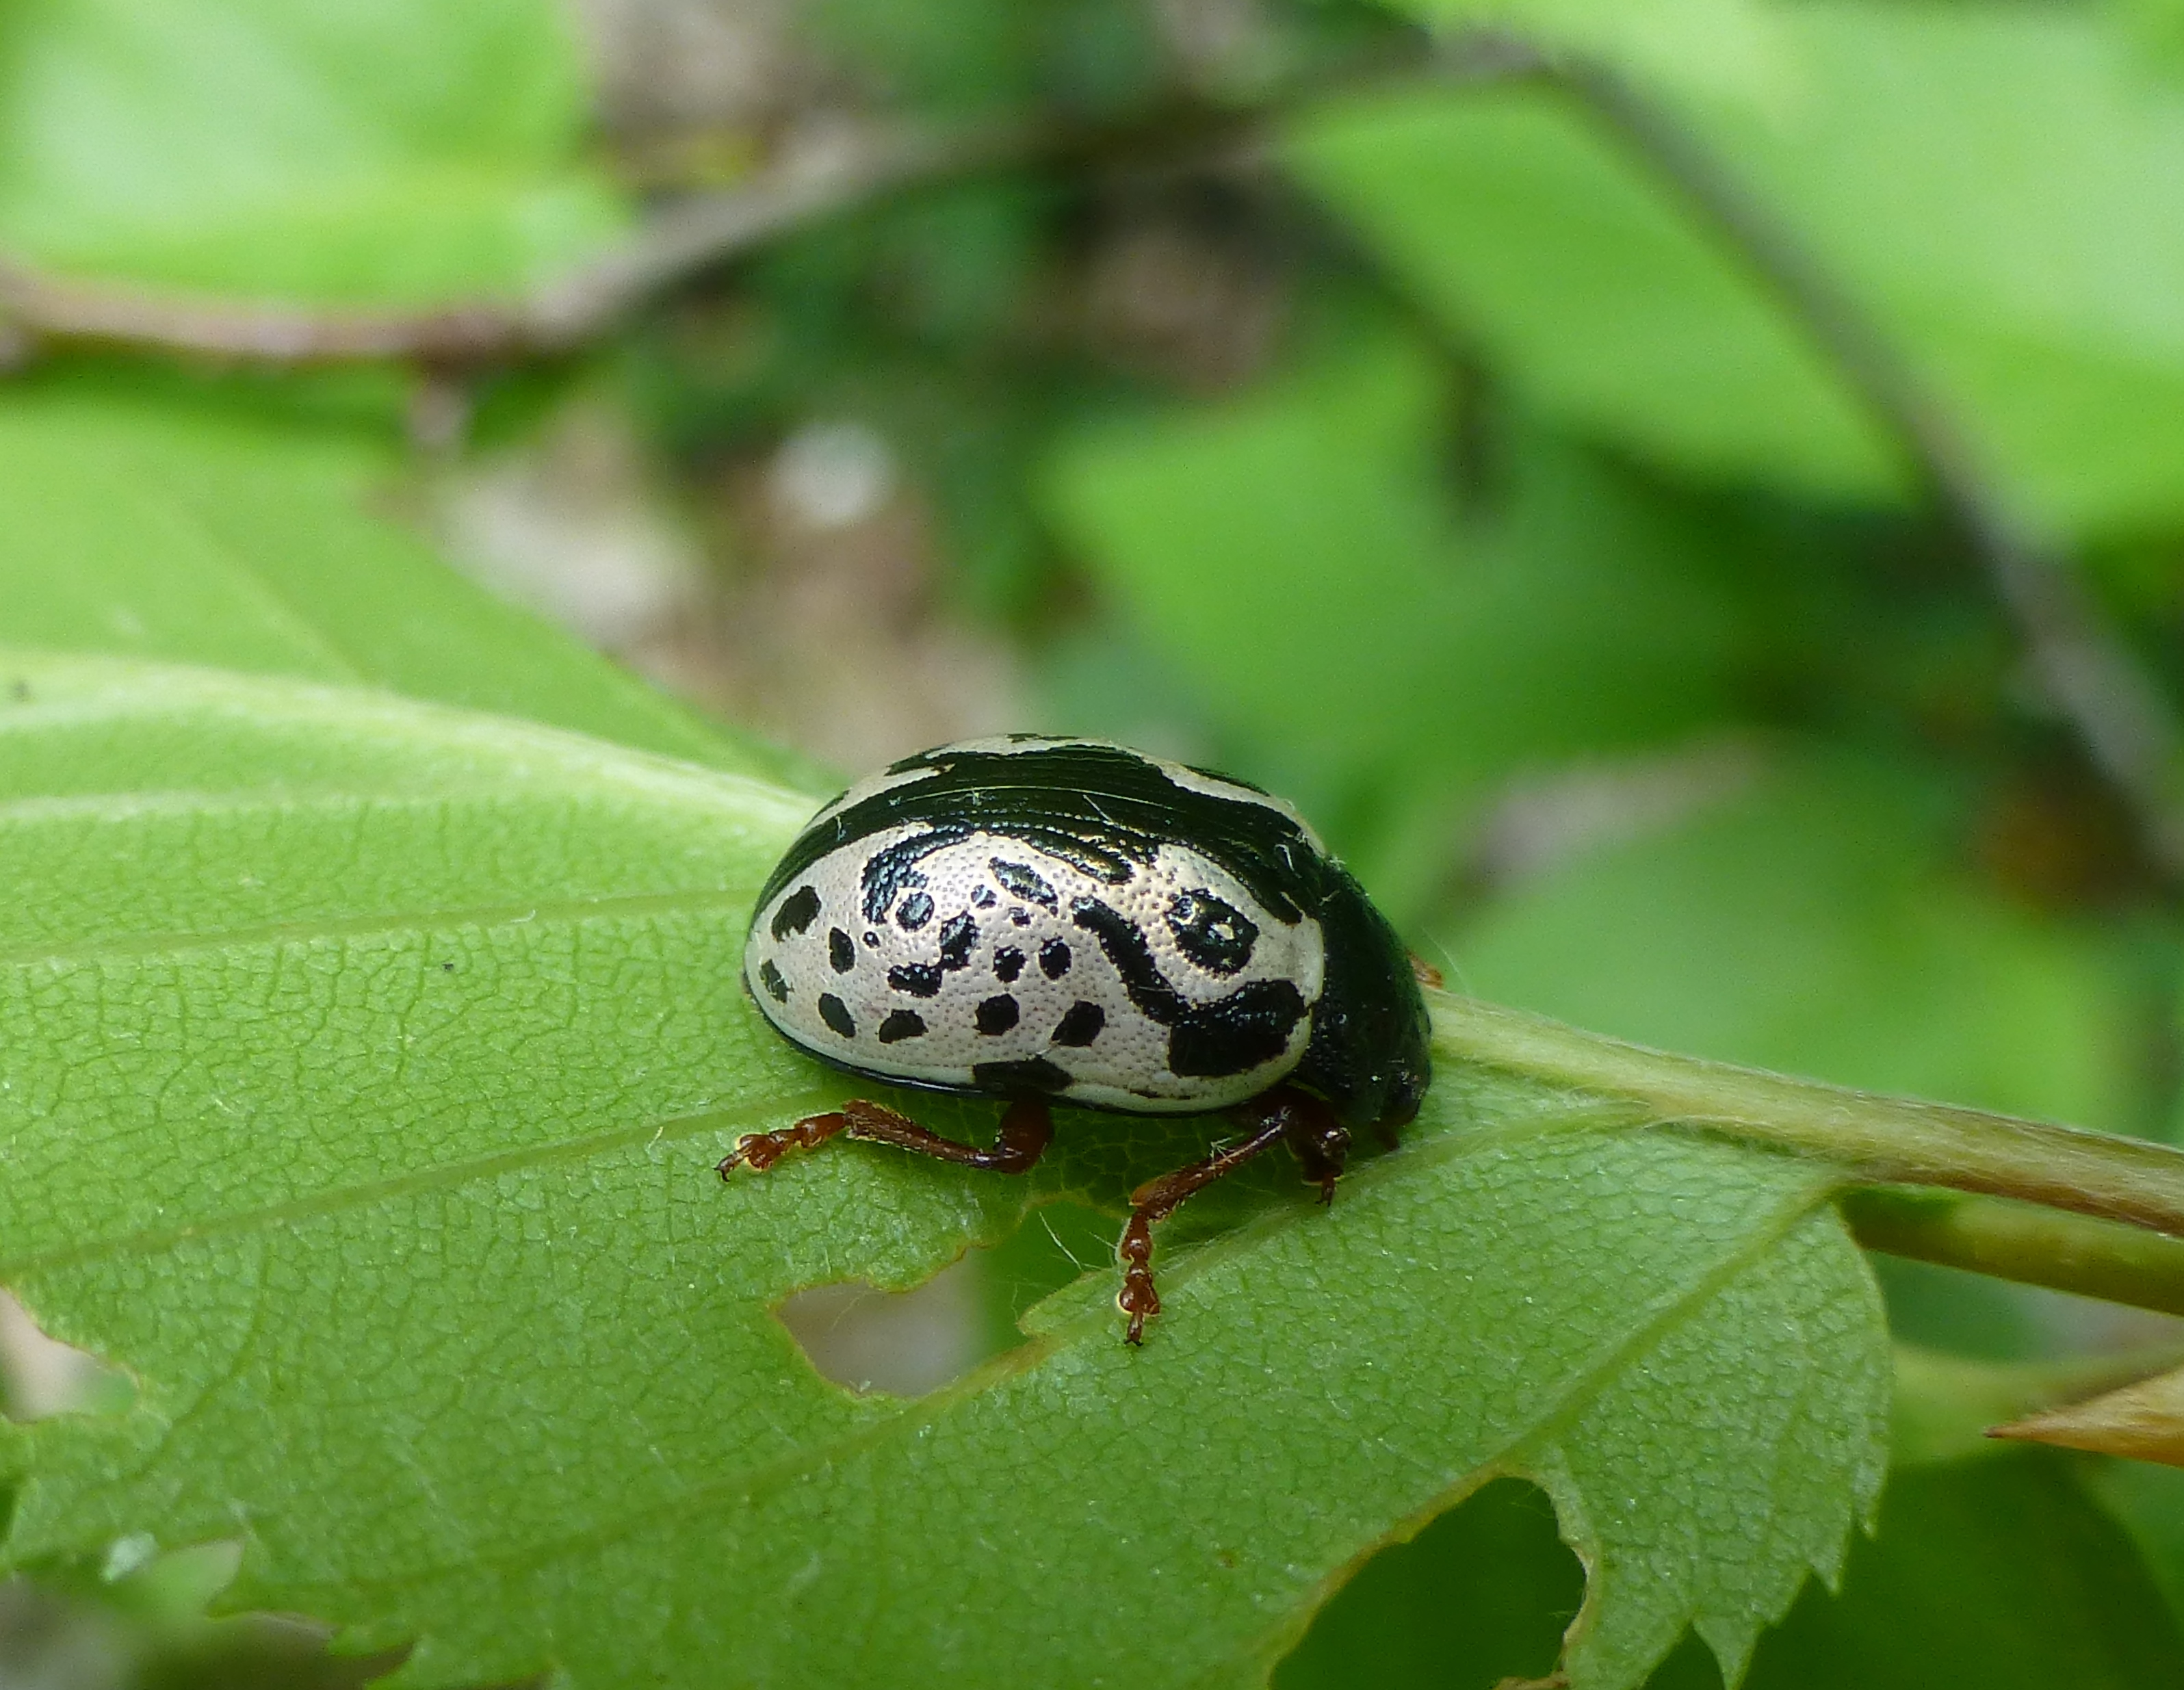Calligrapha beetle: (654, 681, 1509, 1355)
